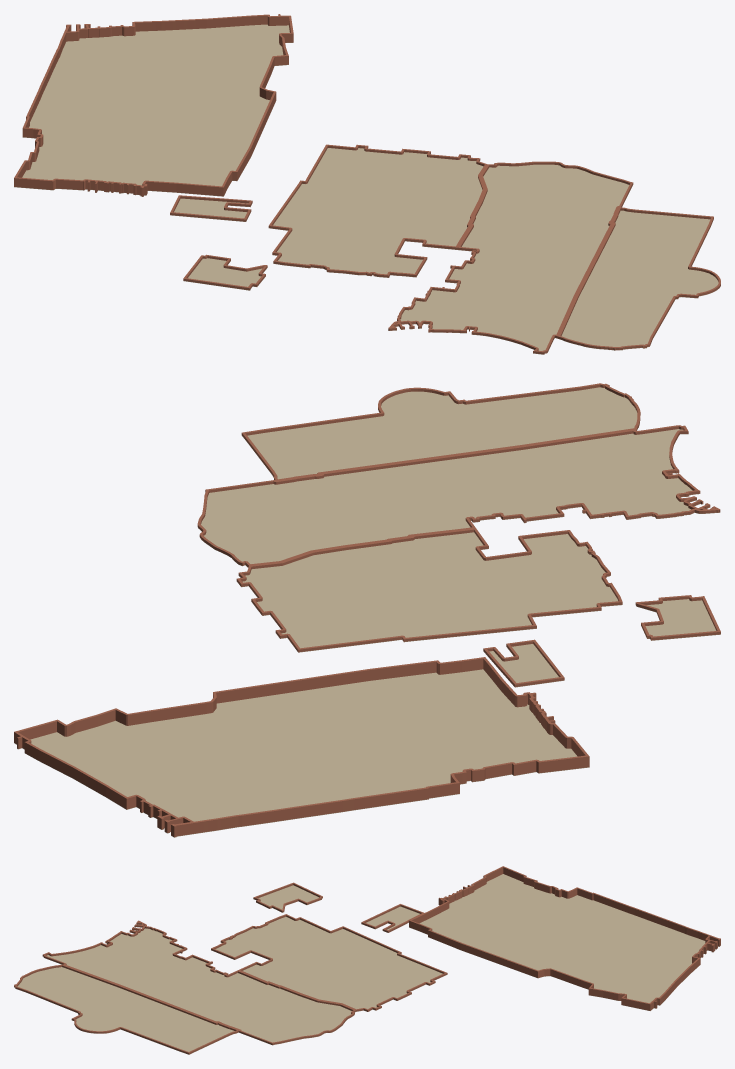
File: palatine.glb
The picture shows the model from 3 angles, top to bottom: view 1: azimuth 30°, elevation 25°; view 2: azimuth 150°, elevation 25°; view 3: azimuth 270°, elevation 25°; orthographic projection. The views are drawn at different scales.
Visible parts, largest first — view 1: named-palace-archaeological-extent, palatine-remains; view 2: named-palace-archaeological-extent, palatine-remains; view 3: named-palace-archaeological-extent, palatine-remains.
Part boxes in pixels (left/top/right/bottom): named-palace-archaeological-extent: left=14, top=24, right=719, bottom=354; palatine-remains: left=14, top=14, right=720, bottom=354; named-palace-archaeological-extent: left=14, top=387, right=720, bottom=837; palatine-remains: left=14, top=383, right=720, bottom=837; named-palace-archaeological-extent: left=14, top=874, right=720, bottom=1054; palatine-remains: left=14, top=866, right=720, bottom=1054.
Size of the model in its own units: 9.74 by 0.1725 by 16.
